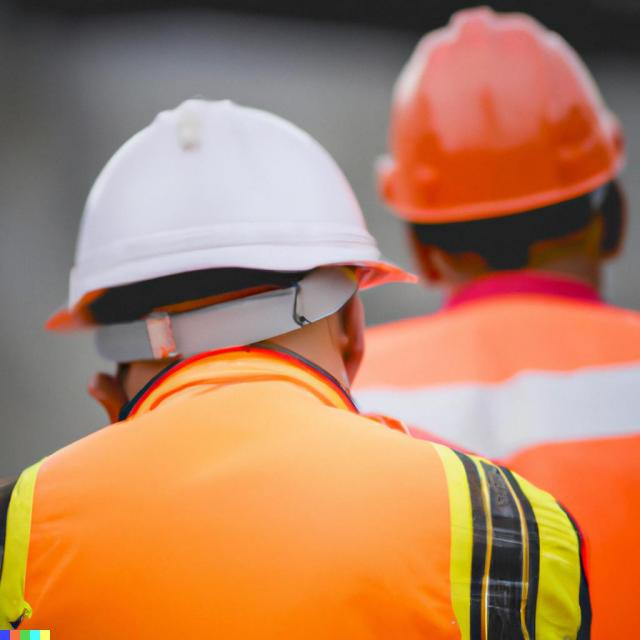Reflective-Jacket: (0, 359, 602, 637), (485, 419, 640, 640)
Safety-Helmet: (43, 94, 414, 332), (374, 5, 637, 226)
